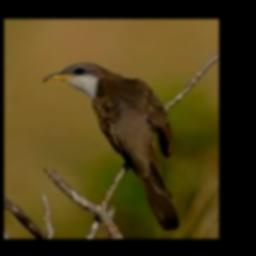Cuckoo: (43, 64, 182, 232)
